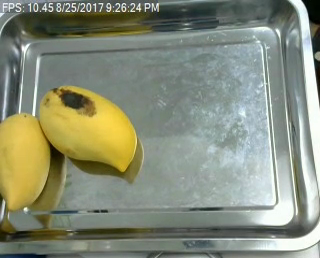Mango: (39, 84, 140, 171), (0, 110, 51, 213)
